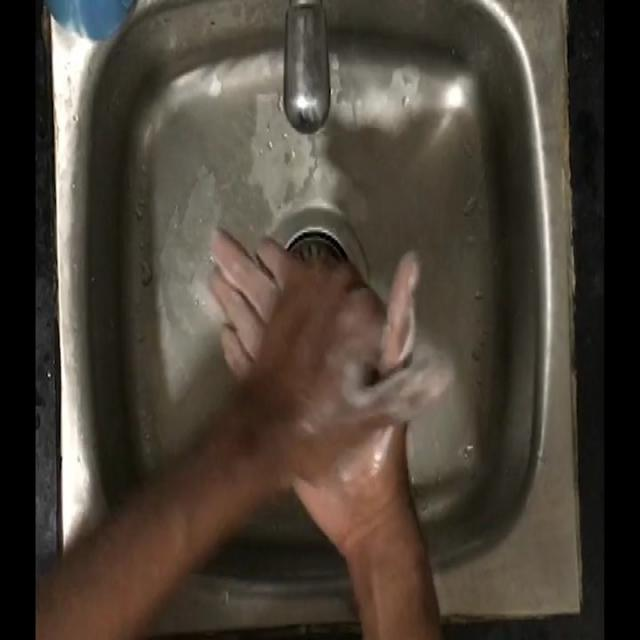step_5: (196, 215, 437, 538)
